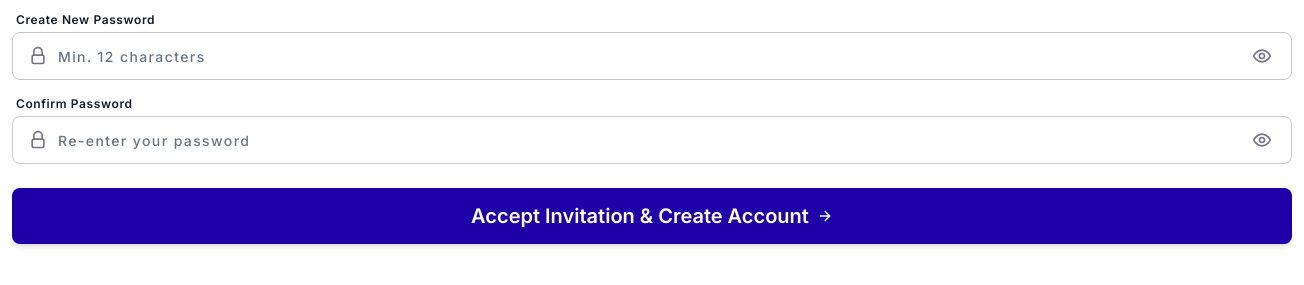
it: AcceptInviteForm › blocks mismatched password submissions
The width and height of the screenshot is (1304, 285).
In the password field labelled "Create New Password": (652, 56) x1=12 y1=32 x2=1292 y2=80, type "StrongPass1!"
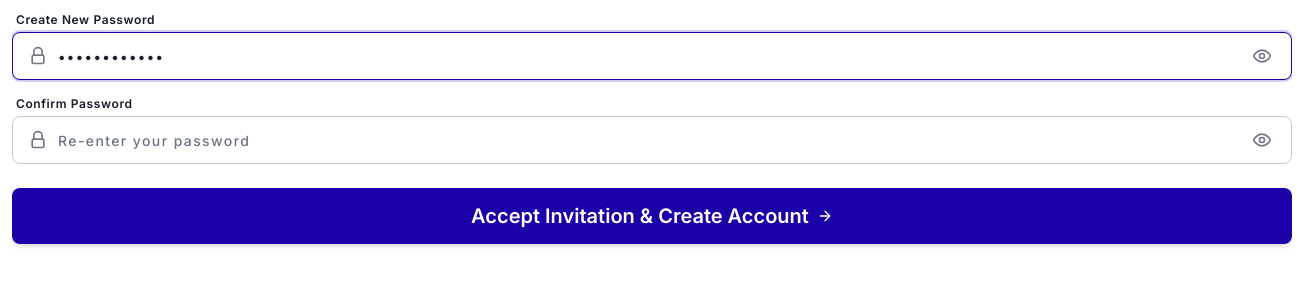
In the password field labelled "Confirm Password": (652, 140) x1=12 y1=116 x2=1292 y2=164, type "Different1!"
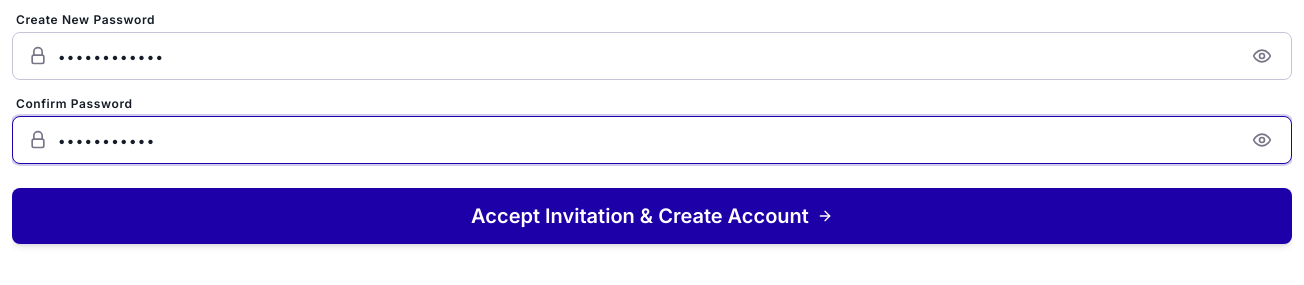
Click the button "Accept Invitation & Create Account": (652, 216) x1=12 y1=188 x2=1292 y2=244
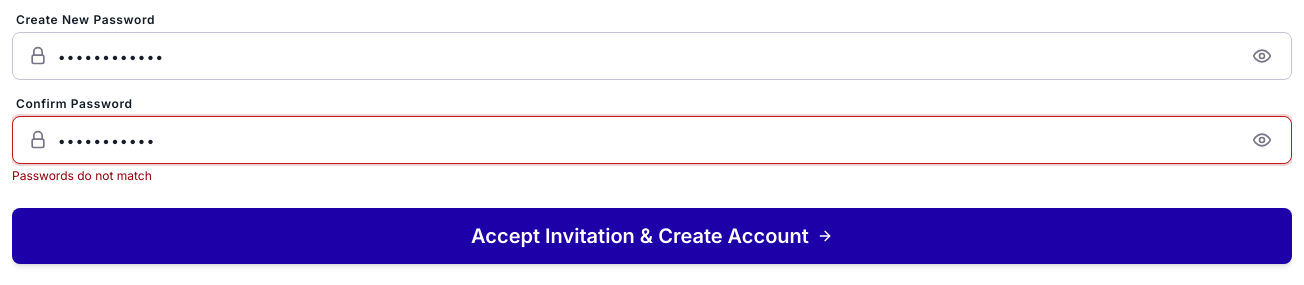
Check: the text "Passwords do not match" is shown, box x1=12 y1=168 x2=152 y2=183
